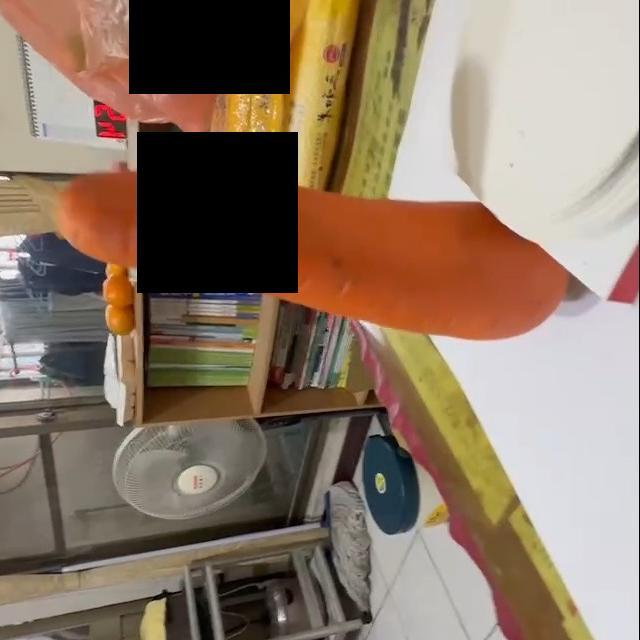carrot: (53, 175, 572, 341)
